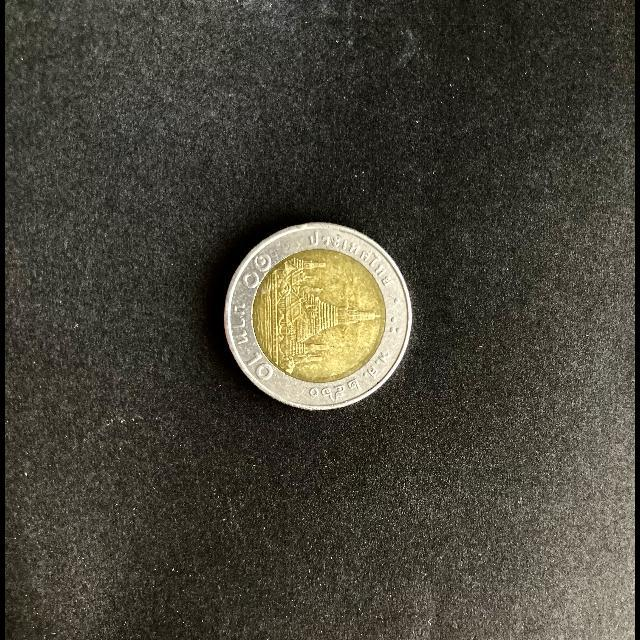10 Bath: (222, 221, 416, 413)
